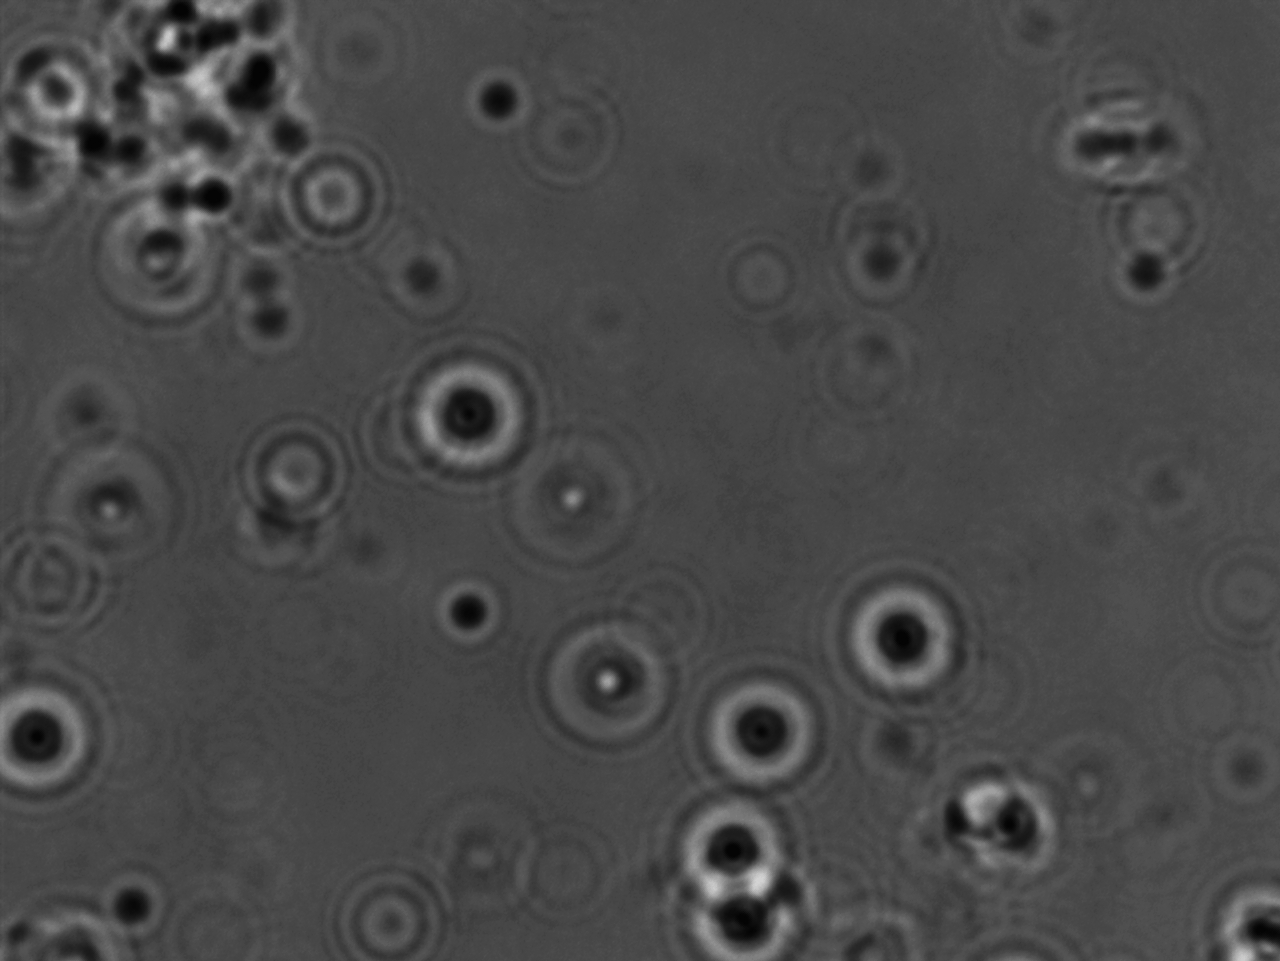depth:-16: (828, 552, 967, 709), (397, 346, 540, 488), (683, 666, 831, 789), (676, 789, 809, 907)
